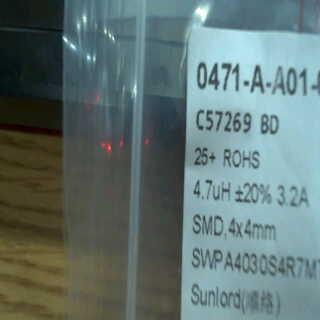4.7uH: (193, 177, 233, 200)
